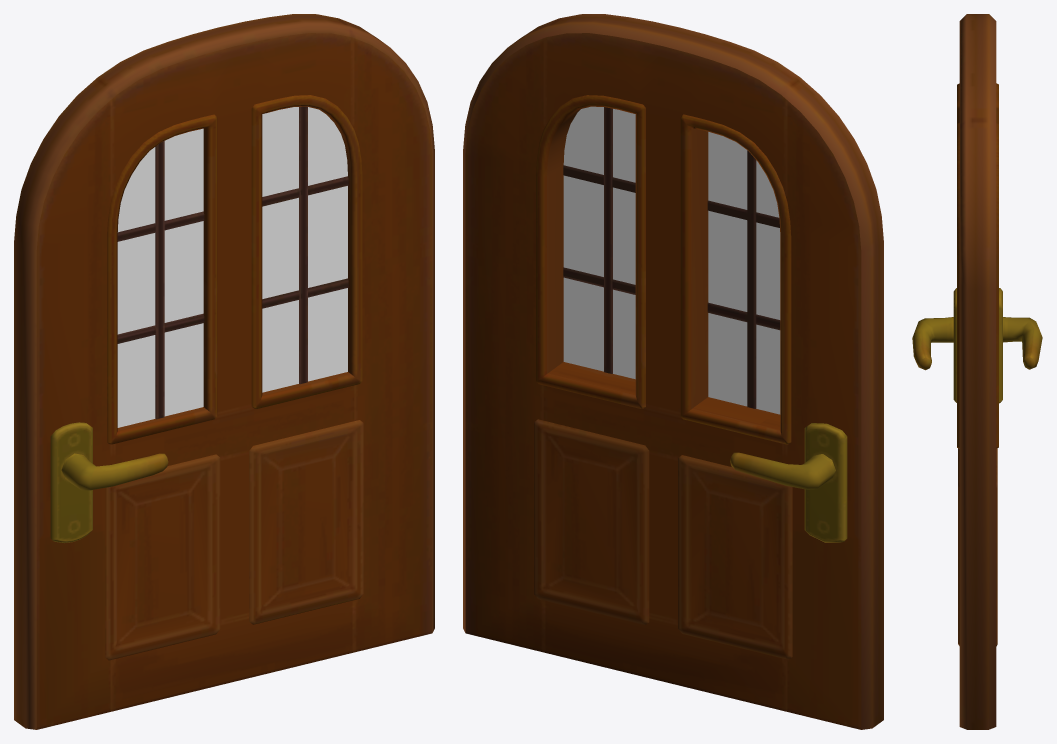
The model's file is door_vertical_window_ar.glb.
The picture shows the model from 3 angles, left to right: view 1: azimuth 30°, elevation 25°; view 2: azimuth 150°, elevation 25°; view 3: azimuth 270°, elevation 25°; orthographic projection. The views are drawn at different scales.
Parts seen in each view (by area): view 1: DoorBaseR_10__mDoorR, DoorBaseR_7__mWindowGlass; view 2: DoorBaseR_10__mDoorR, DoorBaseR_7__mWindowGlass; view 3: DoorBaseR_10__mDoorR.
Part boxes in pixels (x1,y1,x2,y2): DoorBaseR_10__mDoorR: (14,14,434,729); DoorBaseR_7__mWindowGlass: (117,107,347,427); DoorBaseR_10__mDoorR: (463,14,883,729); DoorBaseR_7__mWindowGlass: (563,106,780,414); DoorBaseR_10__mDoorR: (912,14,1042,729).
Bounding box in the file's own units: 12 × 18 × 3.61.
2 materials, 1 textured.
